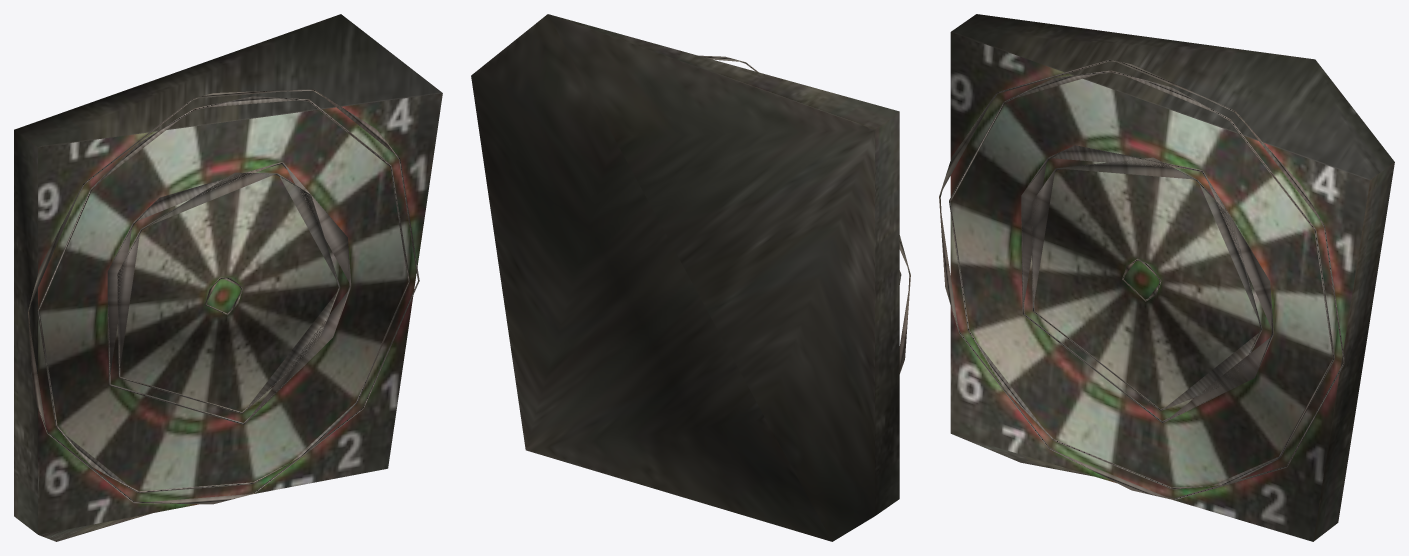
The model's file is dartboard.glb.
3 renders of one model, left to right at view 1: azimuth 30°, elevation 25°; view 2: azimuth 150°, elevation 25°; view 3: azimuth 330°, elevation 25°, orthographic. The views are drawn at different scales.
Visible parts, largest first — view 1: dartboard; view 2: dartboard; view 3: dartboard.
Boxes of the visible parts, <box> form: dartboard: <box>14,14,442,541</box>; dartboard: <box>471,14,910,541</box>; dartboard: <box>939,14,1394,541</box>.
Bounding box in the file's own units: 0.3581 × 0.3776 × 0.0382.
Materials: 1 (1 with a texture image).
